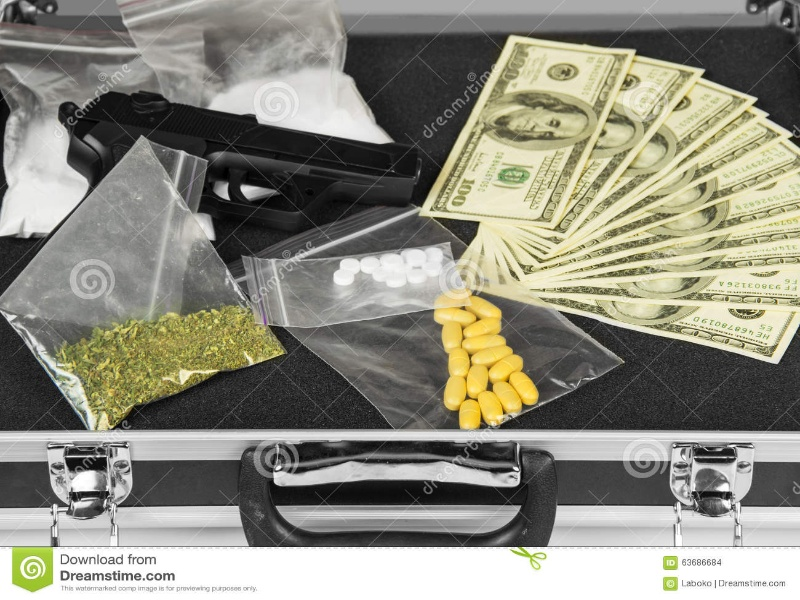cash: (419, 34, 800, 363)
weapon: (59, 92, 422, 227)
